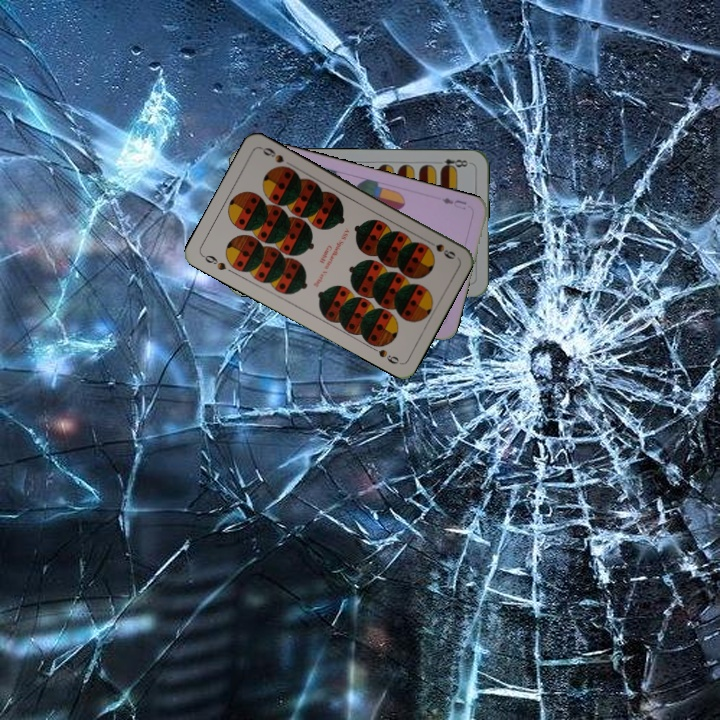E8: (432, 155, 473, 172)
EU: (438, 193, 469, 212)
S9: (421, 235, 458, 262), (198, 251, 228, 273)
